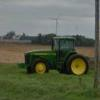Tractor: (11, 32, 91, 79)
